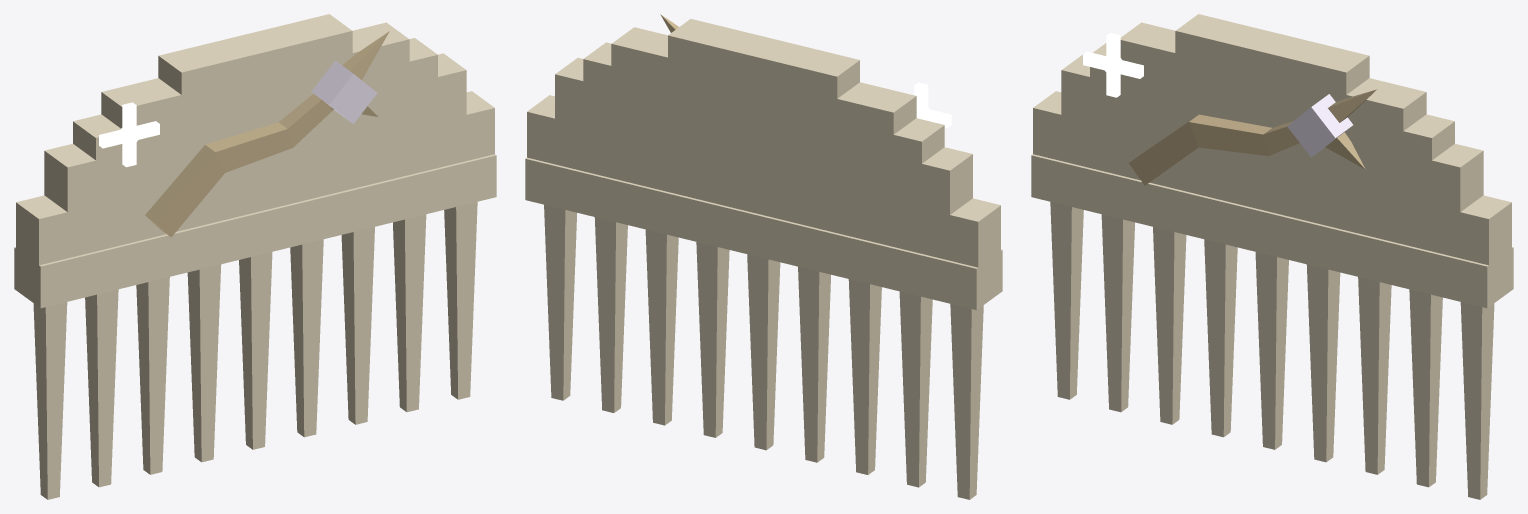
3 renders of one model, left to right at view 1: azimuth 30°, elevation 25°; view 2: azimuth 150°, elevation 25°; view 3: azimuth 330°, elevation 25°, orthographic.
Visible parts, largest first — view 1: R012_Main, R012_Accent, R012_Gem, R012_Glow; view 2: R012_Main, R012_Glow; view 3: R012_Main, R012_Accent, R012_Gem, R012_Glow.
Part boxes in pixels (bbox=[...]): R012_Main: bbox=[14, 14, 496, 499]; R012_Accent: bbox=[145, 31, 389, 237]; R012_Gem: bbox=[311, 60, 377, 123]; R012_Glow: bbox=[99, 102, 159, 167]; R012_Main: bbox=[525, 19, 1002, 499]; R012_Glow: bbox=[914, 82, 951, 127]; R012_Main: bbox=[1031, 14, 1513, 499]; R012_Accent: bbox=[1129, 89, 1376, 185]; R012_Gem: bbox=[1287, 94, 1352, 157]; R012_Glow: bbox=[1083, 33, 1143, 97].
Size of the model in its own units: 1.6 by 1.35 by 0.26.
